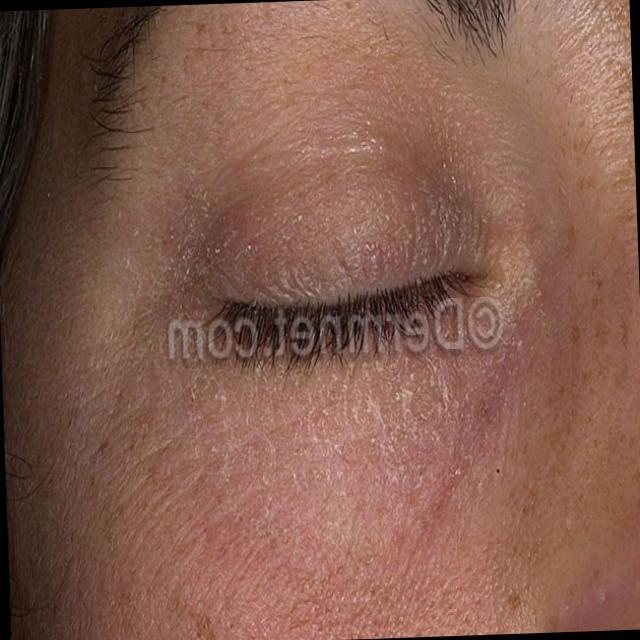Eczema: (147, 155, 509, 573)
